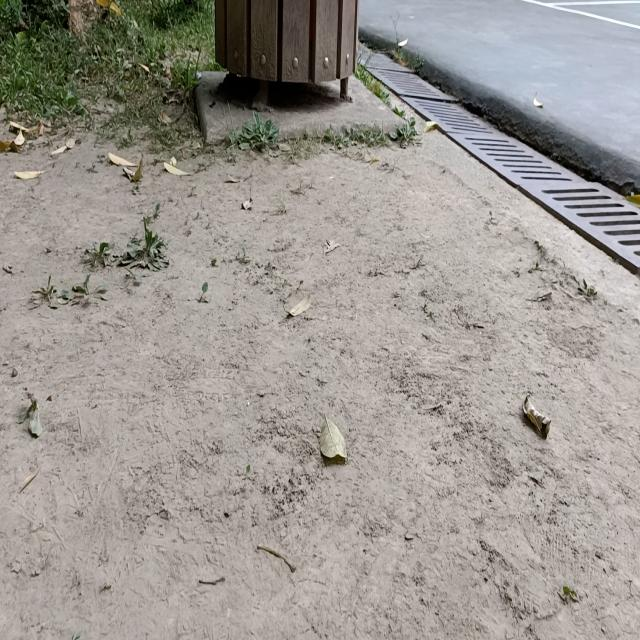asphalt: (359, 0, 640, 193)
cement: (196, 72, 402, 143)
white-sand: (0, 132, 640, 639)
